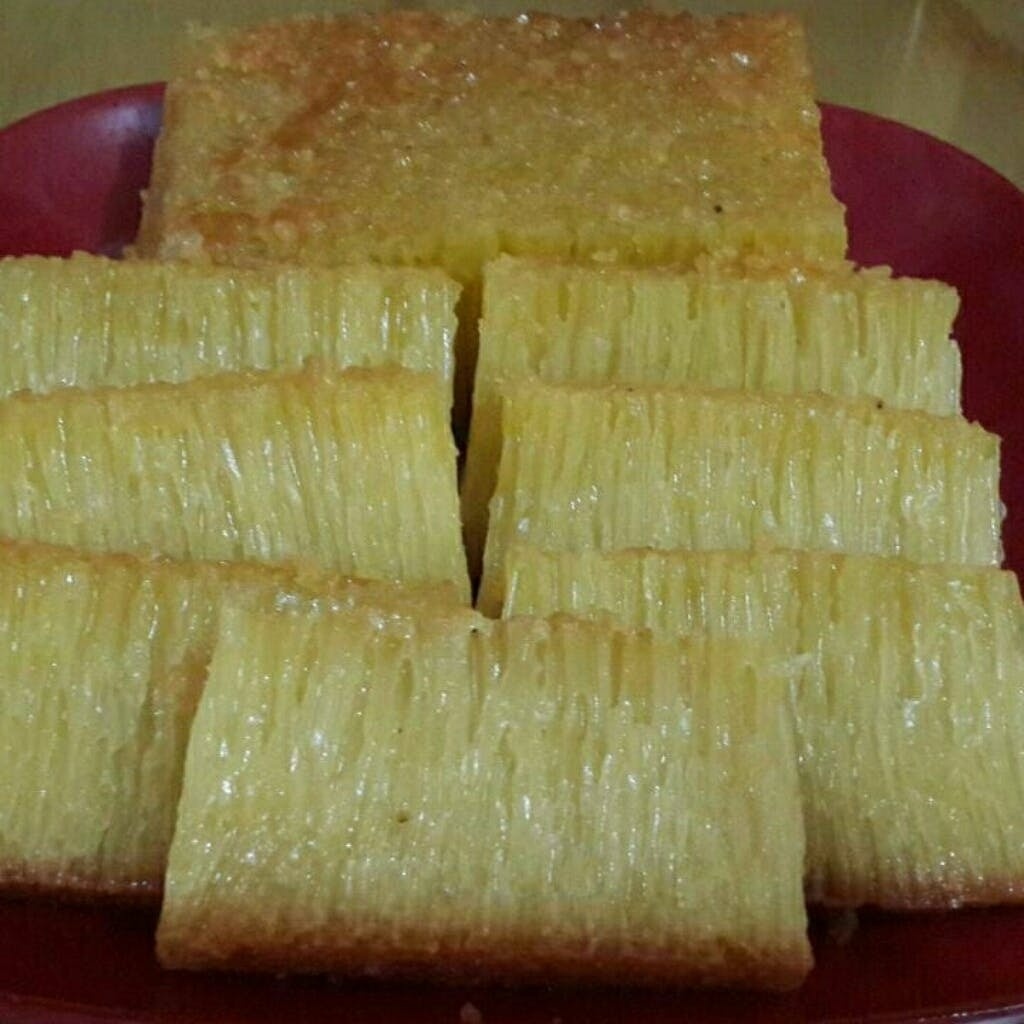bika_ambon: (474, 254, 1021, 925), (177, 596, 786, 985)
